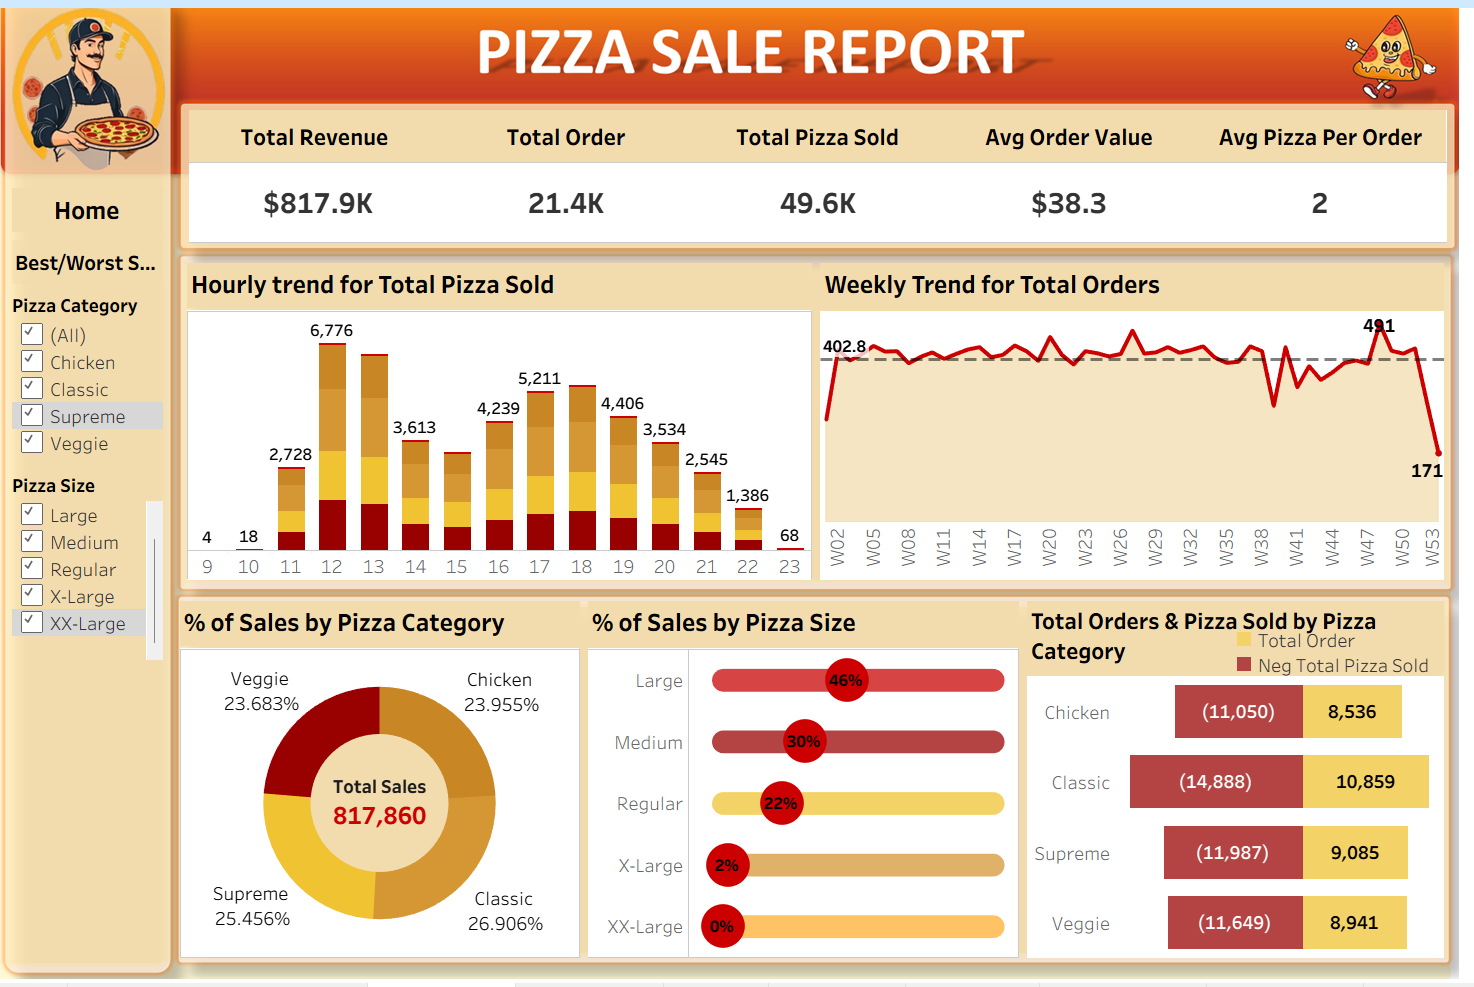

Layout of this report page (visuals, bound fields, positions):
{"tool":"tableau","page":{"name":"Dashboard 1","canvas":[1000,1000],"units":"permille","ordinal":0},"visuals":[{"type":"image","param":"Image/Slide3.PNG","box":[0,0,1000,1000]},{"type":"worksheet","title":"KPI Banner","mark":"Automatic","box":[138,123,844,141]},{"type":"dashboard-object","box":[20,201,106,52]},{"type":"dashboard-object","box":[20,253,106,52]},{"type":"worksheet","title":"Hourly Trend","mark":"Bar","rows":["Calculation_0986304888209411","Calculation_0986304888209411"],"cols":["order_time"],"box":[136.7,276,422,325]},{"type":"worksheet","title":"Weekly Trend","mark":"Area","rows":["Calculation_0986304887504897","Calculation_0986304887504897"],"cols":["order_date"],"box":[558.7,276,421.3,325]},{"type":"filter","title":"Percnt of Sales by Pizza Category","param":"[federated.0eyhhnv1c6yr6z0zupctl002wh75].[none:pizza_category:nk]","box":[20,305,106,180]},{"type":"filter","title":"Percent of Sales by Pizza Size","param":"[federated.0eyhhnv1c6yr6z0zupctl002wh75].[none:pizza_size:nk]","box":[20,485,106,196]},{"type":"worksheet","title":"Percnt of Sales by Pizza Category","mark":"Pie","rows":["Calculation_0986307700703238","Calculation_0986307700703238"],"box":[132,614,272,365]},{"type":"worksheet","title":"Percent of Sales by Pizza Size","mark":"Line","rows":["pizza_size"],"box":[404,614,292.7,365]},{"type":"worksheet","title":"Total Orders & Pizza Sold by P Category","mark":"Automatic","rows":["pizza_category"],"box":[696.7,614,283.3,365]},{"type":"legend","title":"Total Orders & Pizza Sold by P Category","param":"[federated.0eyhhnv1c6yr6z0zupctl002wh75].[:Measure Names]","box":[836,644,137.3,51]}]}

Visuals, with their boxes on the dashboard's canvas, which has no fixed pixel size, in thousandths of its width and height (x1, y1, x2, y2). These are canvas units, not pixel positions in the 1474x987 screenshot, which may show the page scaled, cropped or inside an application window:
image: 0:0:1000:1000
"KPI Banner" worksheet: 138:123:982:264
dashboard-object: 20:201:126:253
dashboard-object: 20:253:126:305
"Hourly Trend" worksheet (Bar marks): 137:276:559:601
"Weekly Trend" worksheet (Area marks): 559:276:980:601
"Percnt of Sales by Pizza Category" filter: 20:305:126:485
"Percent of Sales by Pizza Size" filter: 20:485:126:681
"Percnt of Sales by Pizza Category" worksheet (Pie marks): 132:614:404:979
"Percent of Sales by Pizza Size" worksheet (Line marks): 404:614:697:979
"Total Orders & Pizza Sold by P Category" worksheet: 697:614:980:979
"Total Orders & Pizza Sold by P Category" legend: 836:644:973:695
